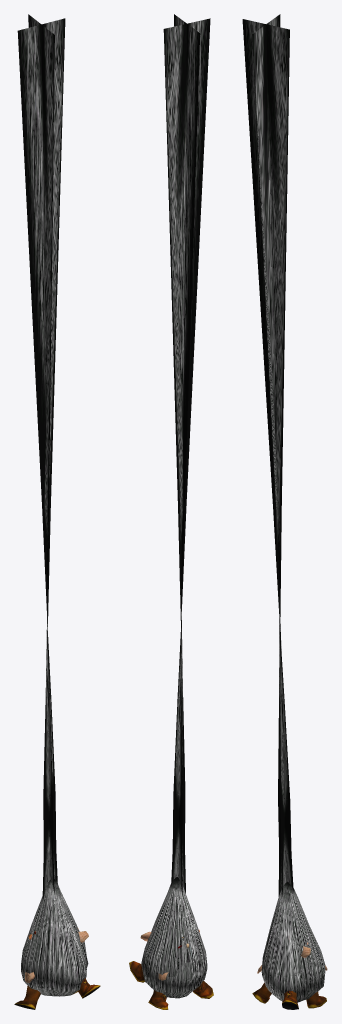
Rendered from INST_SB_DWARFCOCOON.fbx.
3 renders of one model, left to right at view 1: azimuth 30°, elevation 25°; view 2: azimuth 210°, elevation 25°; view 3: azimuth 330°, elevation 25°, orthographic.
Parts seen in each view (by area): view 1: INST_SB_DWARFCOCOON; view 2: INST_SB_DWARFCOCOON; view 3: INST_SB_DWARFCOCOON.
Boxes of the visible parts, bbox=[...] form: INST_SB_DWARFCOCOON: bbox=[14, 14, 100, 1009]; INST_SB_DWARFCOCOON: bbox=[129, 14, 213, 1009]; INST_SB_DWARFCOCOON: bbox=[242, 14, 327, 1009].
Bounding box in the file's own units: 10732 × 139029 × 10695.
5 materials, 5 textured.
